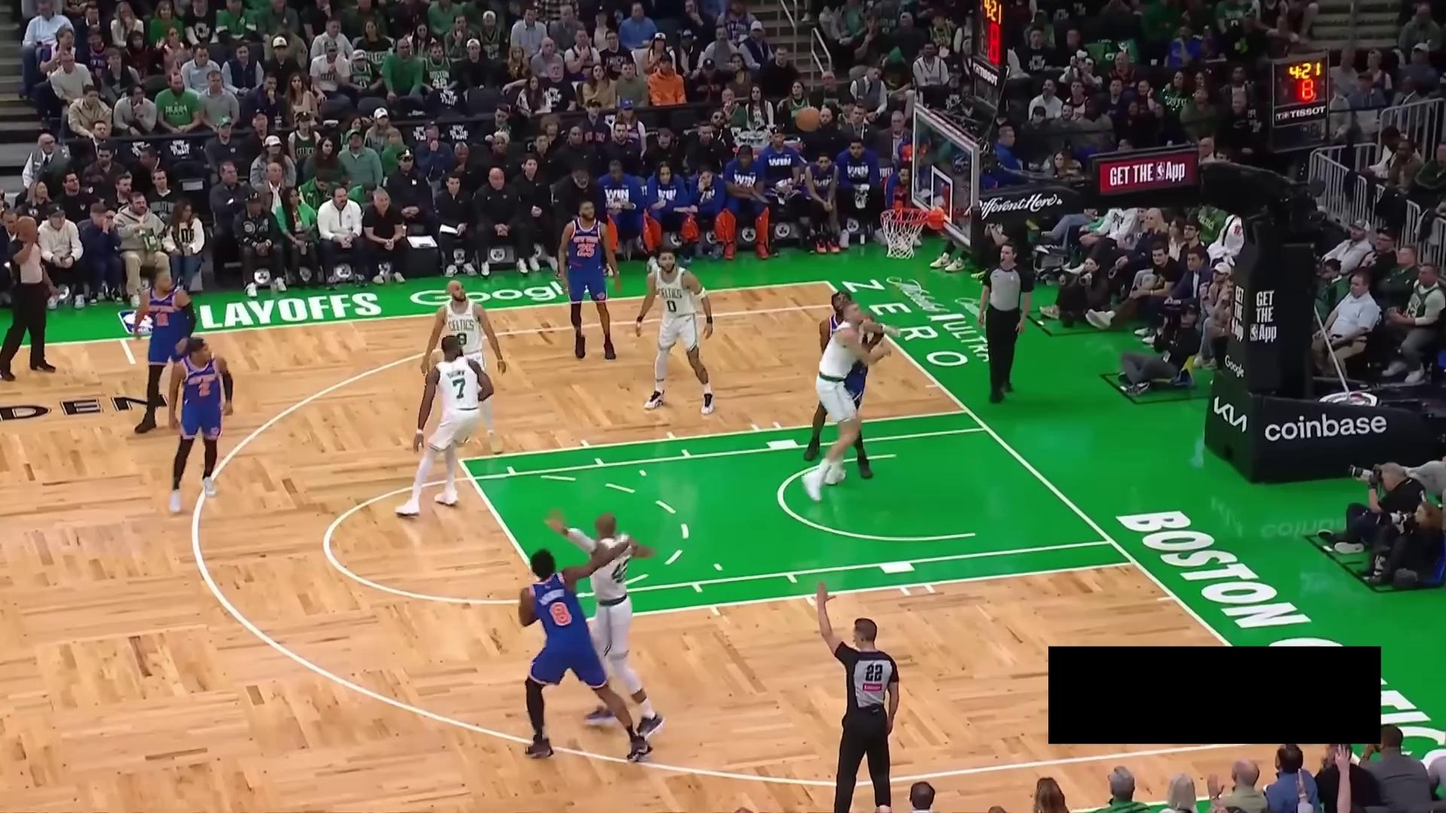ball: (795, 107, 820, 132), (15, 215, 38, 242)
number: (548, 601, 572, 626), (611, 556, 631, 585), (575, 242, 596, 258), (453, 378, 466, 400), (197, 380, 211, 398), (155, 311, 170, 327), (455, 330, 468, 348), (666, 298, 678, 314)
player: (518, 541, 653, 764), (544, 507, 665, 738), (801, 300, 892, 503), (395, 333, 493, 518), (802, 289, 886, 481), (419, 277, 507, 457), (633, 245, 716, 416), (166, 334, 236, 514), (132, 267, 200, 436), (557, 197, 622, 362)
referee: (816, 579, 901, 813), (0, 210, 59, 382), (977, 240, 1035, 403)
rim: (880, 206, 929, 224)
